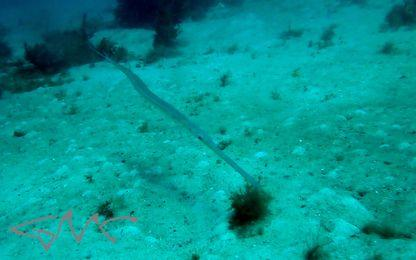Fistularia commersonii: (75, 39, 276, 204)
